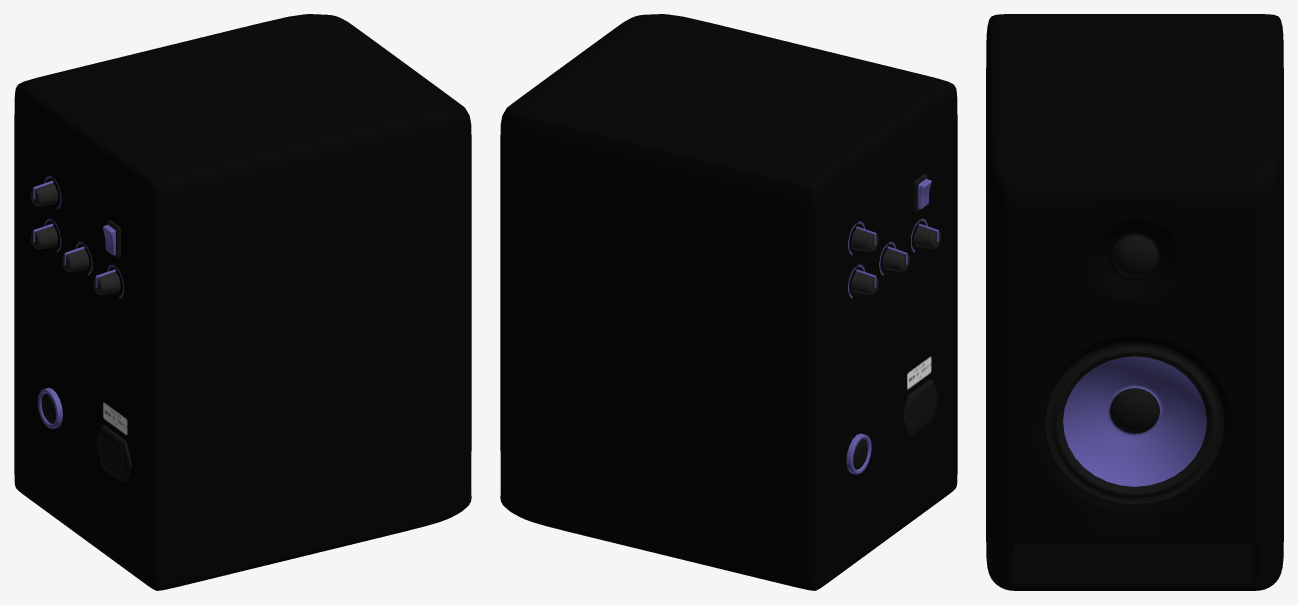
Rendered from speaker.glb.
3 views of the same model, side by side, from view 1: azimuth 30°, elevation 25°; view 2: azimuth 150°, elevation 25°; view 3: azimuth 270°, elevation 25° (orthographic). The views are drawn at different scales.
Parts seen in each view (by area): view 1: Speaker, Power, Input XLR; view 2: Speaker, Power, Input XLR; view 3: Speaker.
Part boxes in pixels (<box>): Speaker: <box>14,14,471,590</box>; Power: <box>96,425,131,482</box>; Input XLR: <box>37,387,62,428</box>; Speaker: <box>500,14,957,590</box>; Power: <box>902,379,937,436</box>; Input XLR: <box>846,433,871,474</box>; Speaker: <box>986,14,1283,590</box>.
Bounding box in the file's own units: 0.6426 × 0.722 × 0.4602.
Materials: 10 (1 with a texture image).
